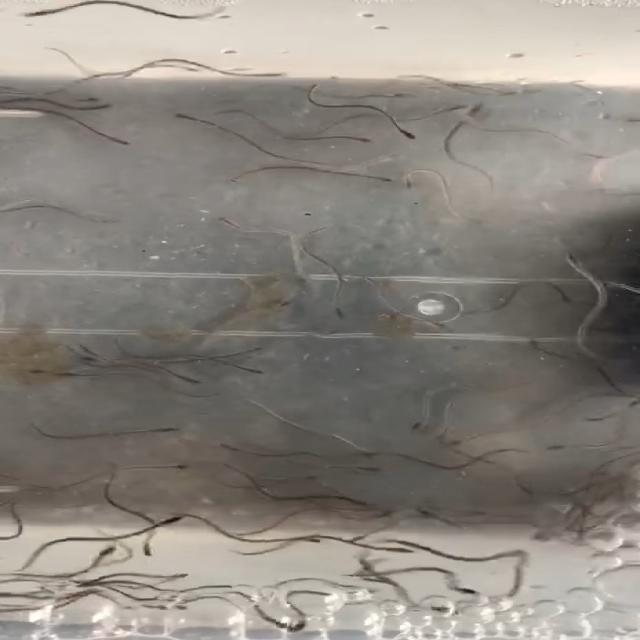active_glass_eel: (236, 62, 298, 88), (458, 98, 532, 116), (104, 127, 158, 151), (30, 360, 86, 379), (154, 110, 206, 130), (75, 98, 128, 116), (343, 560, 390, 580), (351, 166, 395, 187), (373, 86, 420, 105), (202, 214, 254, 231), (557, 252, 596, 273), (452, 582, 495, 601), (171, 370, 211, 390), (170, 458, 204, 481), (277, 618, 312, 640), (368, 543, 416, 559), (324, 306, 362, 326), (436, 98, 470, 120), (13, 9, 65, 23), (351, 446, 402, 460), (92, 544, 136, 560), (153, 568, 197, 584), (151, 512, 194, 528), (154, 425, 197, 440), (225, 442, 271, 456), (240, 358, 272, 378), (540, 443, 582, 458), (392, 130, 426, 148), (570, 414, 619, 426), (374, 533, 416, 547), (394, 173, 421, 194), (242, 342, 277, 358), (133, 544, 164, 562), (407, 418, 439, 434), (369, 152, 407, 165), (436, 428, 466, 444), (342, 136, 381, 148), (584, 148, 609, 166), (432, 317, 458, 334), (412, 505, 434, 522), (61, 98, 106, 106), (439, 442, 468, 453), (302, 536, 326, 548), (83, 582, 114, 590)
